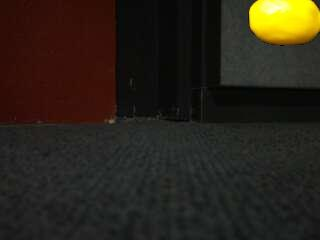Lemon: (248, 1, 320, 47)
